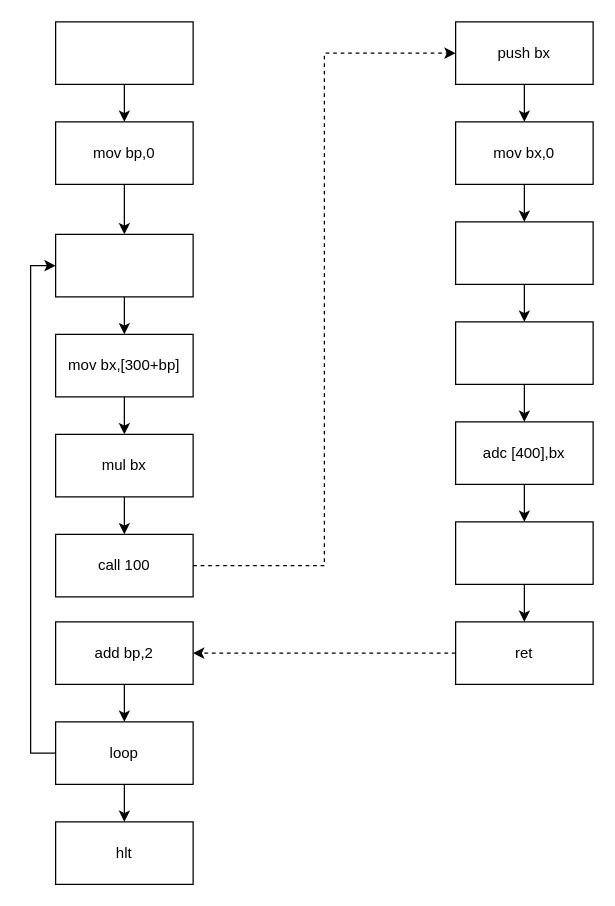
Some shapes in this 615 by 906 pixel diagram are drawn without their labels. The shapes that lost their labels are listed below. From the top down, each one's centre as x and y in pixels, then its label:
At point (123, 52): "mov cx,6".
At point (123, 265): "mov ax,[200+bp]".
At point (523, 252): "add [404],ax".
At point (523, 352): "adc [402],dx".
At point (523, 552): "pop bx".
